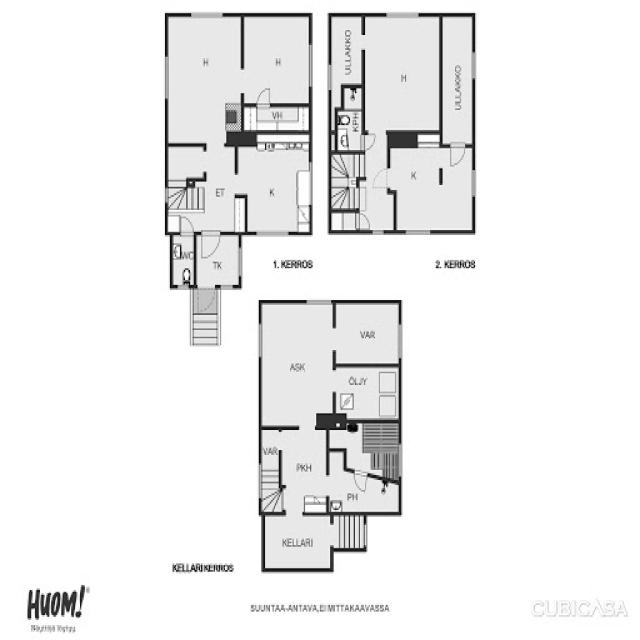door: (199, 228, 221, 258), (196, 283, 217, 312), (447, 141, 468, 169), (372, 166, 392, 192), (221, 174, 241, 196), (178, 215, 195, 238), (255, 85, 272, 108), (353, 470, 369, 494), (354, 211, 372, 231), (361, 131, 377, 152)
window: (382, 7, 423, 23), (161, 52, 171, 104), (188, 8, 225, 22), (305, 42, 315, 92), (254, 228, 292, 239), (396, 322, 406, 362), (402, 226, 434, 238), (303, 295, 334, 307), (469, 49, 479, 85), (325, 61, 335, 94), (307, 160, 314, 207), (397, 440, 406, 476), (256, 462, 263, 502), (257, 321, 264, 359), (470, 167, 478, 200), (236, 245, 244, 277), (368, 227, 388, 239), (173, 282, 190, 293), (161, 185, 170, 205), (364, 522, 370, 546), (219, 283, 236, 291)
zone: (166, 14, 244, 145), (364, 14, 441, 138), (260, 302, 335, 429), (390, 143, 474, 234), (239, 136, 312, 234), (243, 14, 311, 104), (441, 13, 473, 150), (335, 301, 401, 367), (262, 513, 334, 571), (280, 429, 328, 515), (331, 423, 403, 479), (334, 366, 402, 422), (328, 11, 362, 87), (170, 233, 196, 286), (335, 106, 363, 152), (260, 429, 282, 462), (339, 86, 364, 109)
